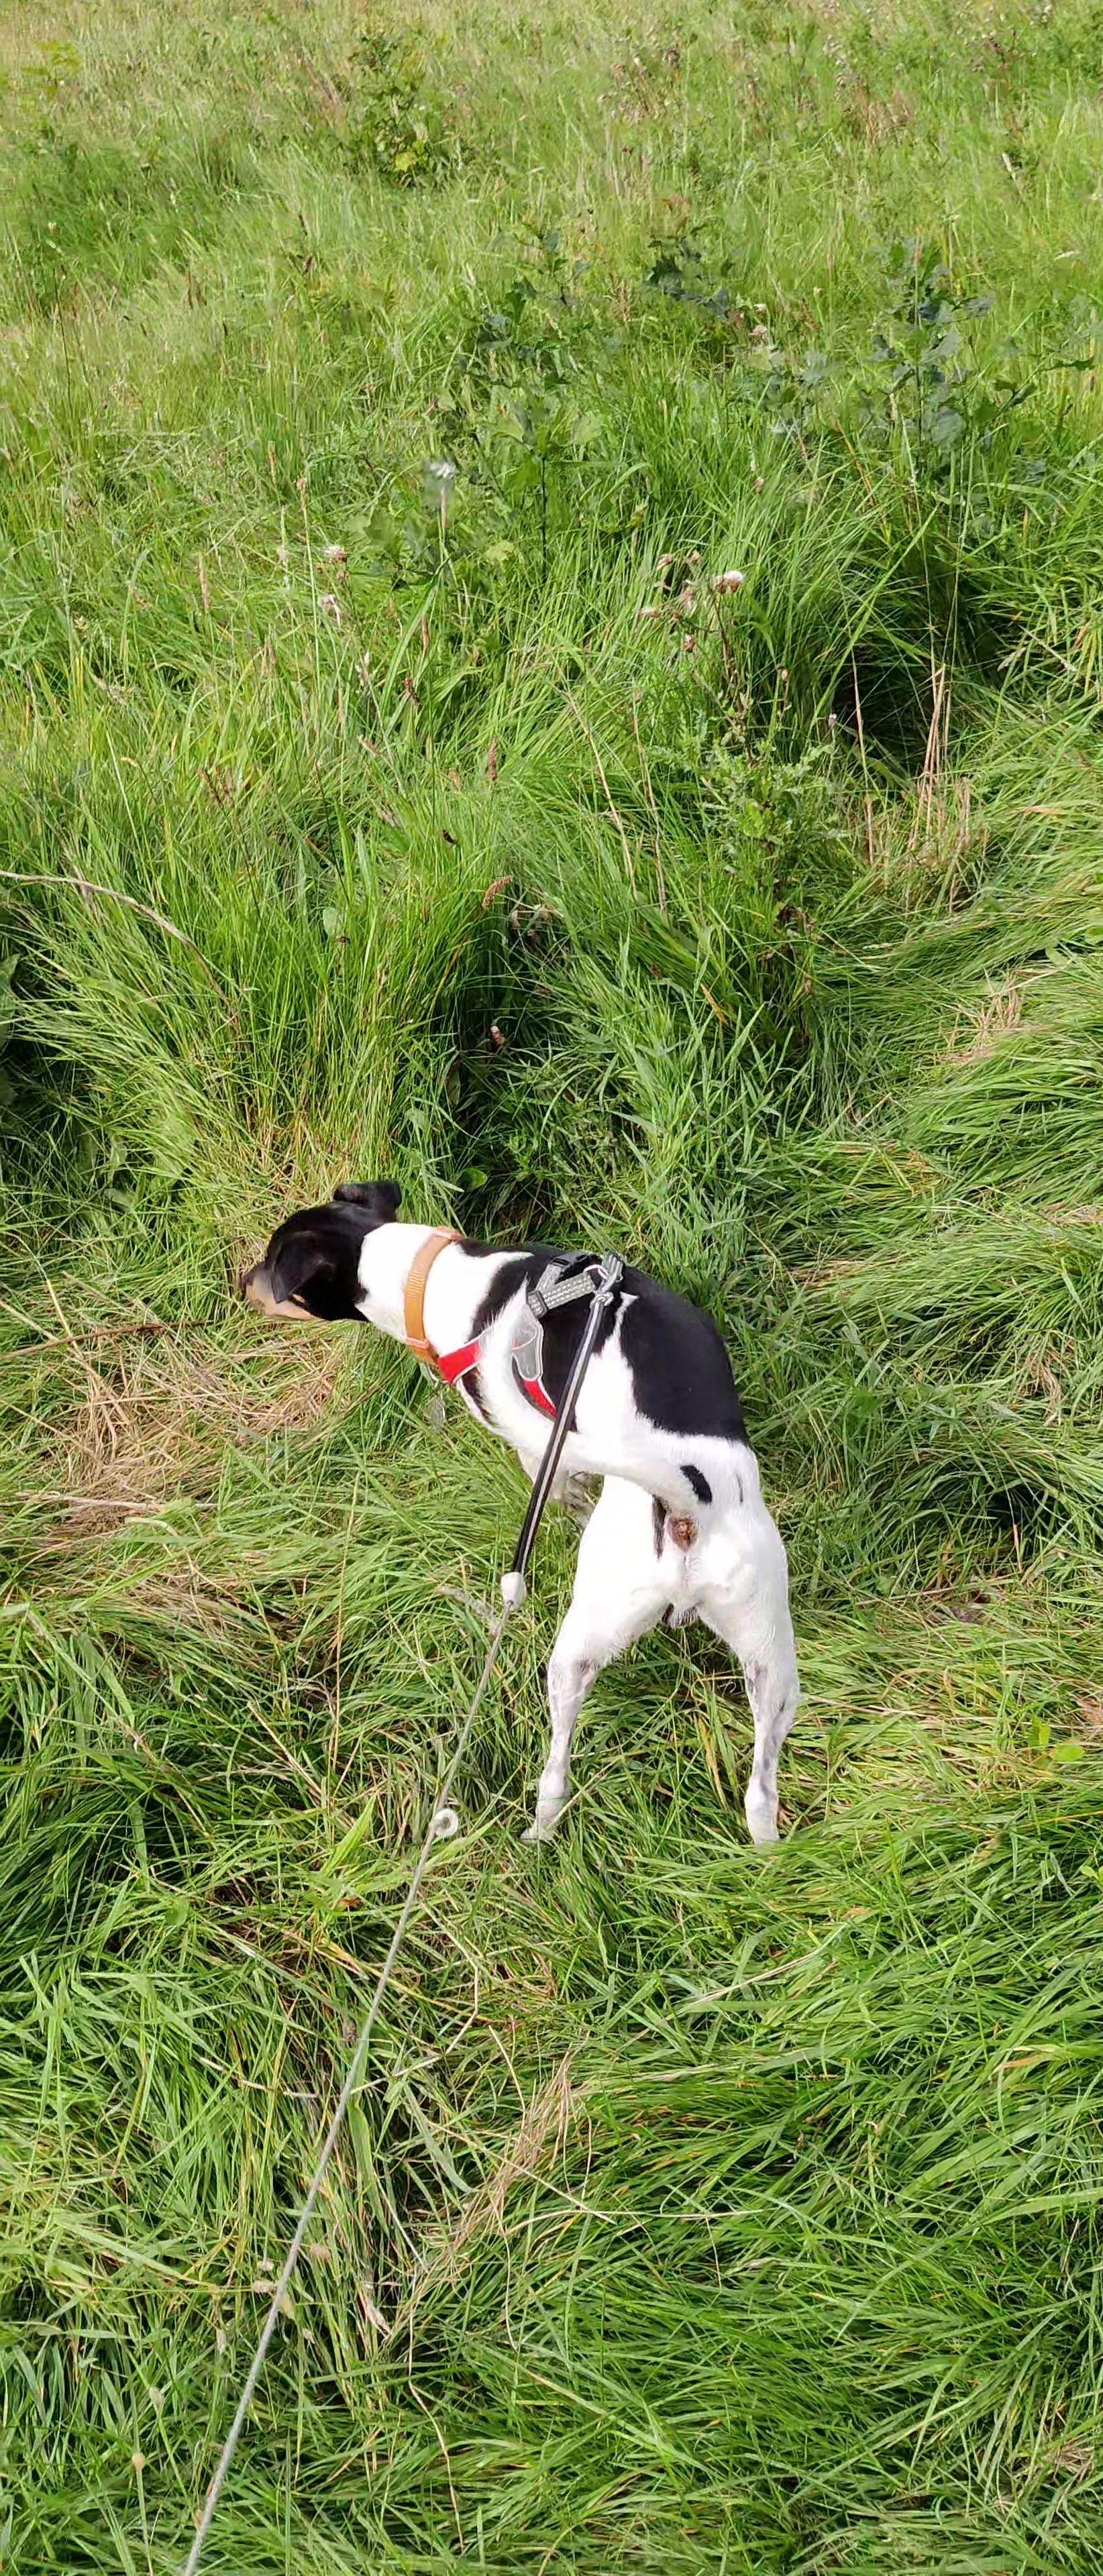Dog: (224, 1171, 810, 1853)
